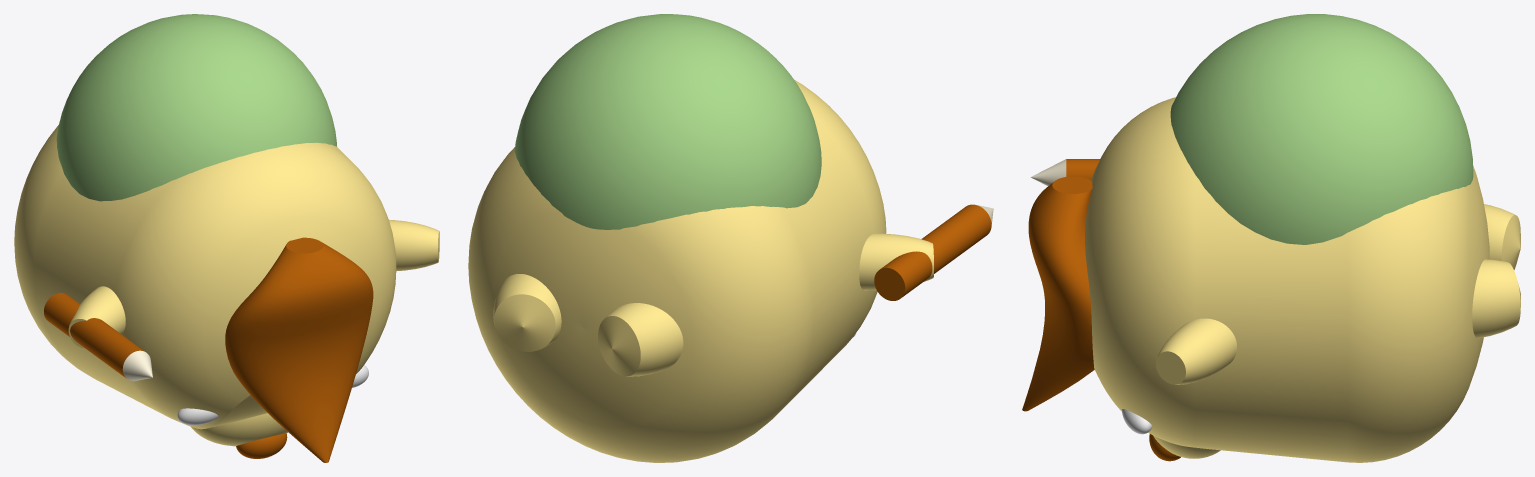
Rendered from broccoli-design.gltf.
The picture shows the model from 3 angles, left to right: view 1: azimuth 30°, elevation 25°; view 2: azimuth 150°, elevation 25°; view 3: azimuth 270°, elevation 25°; orthographic projection. The views are drawn at different scales.
Parts seen in each view (by area): view 1: Part 1, Surface 1, Surface 2, Part 2, Surface 3; view 2: Part 1, Surface 1, Surface 2; view 3: Part 1, Surface 1, Part 2, Surface 2.
Part boxes in pixels (x1,y1,x2,y2): Part 1: (14, 125, 439, 462); Surface 1: (56, 14, 336, 201); Surface 2: (44, 293, 144, 377); Part 2: (191, 413, 288, 458); Surface 3: (122, 350, 152, 381); Part 1: (468, 80, 933, 462); Surface 1: (514, 14, 821, 229); Surface 2: (874, 204, 991, 300); Part 1: (1022, 97, 1520, 462); Surface 1: (1170, 14, 1473, 244); Part 2: (1149, 434, 1220, 461); Surface 2: (1066, 159, 1099, 180).
Size of the model in its own units: 0.1034 by 0.1017 by 0.1073.
